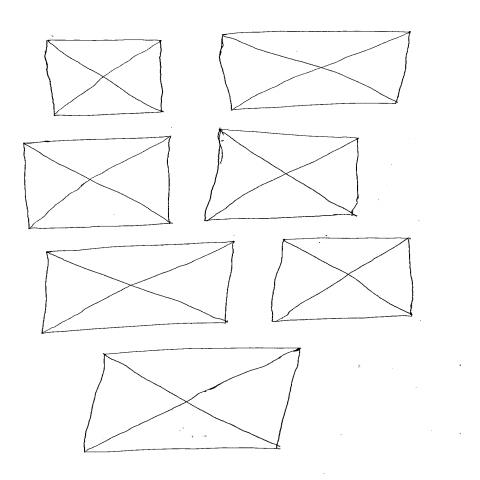Image: (81, 346, 304, 454), (40, 240, 237, 336), (218, 30, 413, 112), (204, 127, 362, 223), (22, 136, 175, 232), (270, 236, 416, 325), (42, 38, 167, 118)
